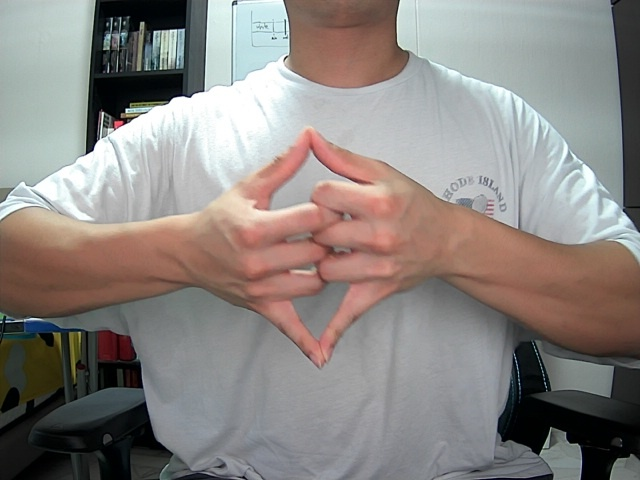Dragon: (213, 116, 447, 377)
